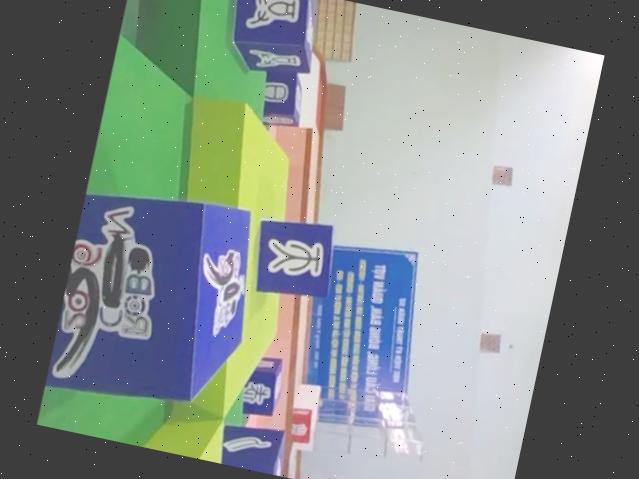R1 Blue: (44, 176, 274, 422)
R2 Fake Blue: (243, 207, 341, 304), (252, 62, 308, 130), (236, 352, 286, 421)
R2 Real Blue: (215, 0, 324, 80), (213, 416, 292, 477)
